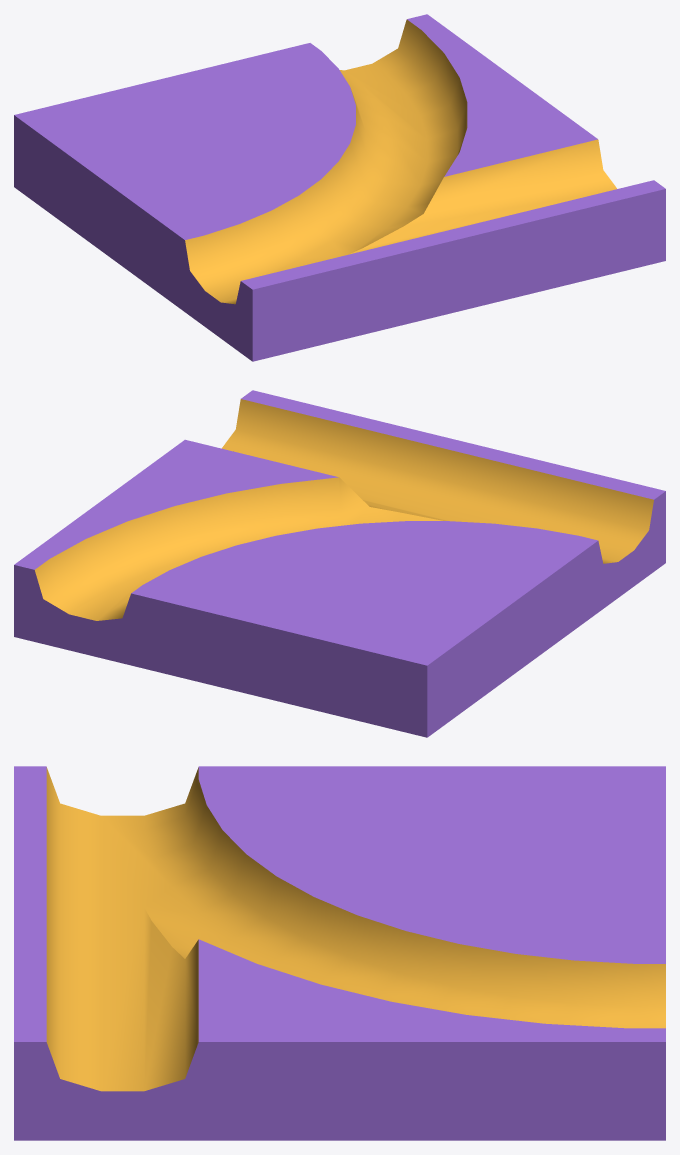
File: split-large-solid-left-col.glb
The picture shows the model from 3 angles, top to bottom: view 1: azimuth 30°, elevation 25°; view 2: azimuth 150°, elevation 25°; view 3: azimuth 270°, elevation 25°; orthographic projection. The views are drawn at different scales.
Parts seen in each view (by area): view 1: split-large-solid-left-col; view 2: split-large-solid-left-col; view 3: split-large-solid-left-col.
Part boxes in pixels (x1,y1,x2,y2): split-large-solid-left-col: (14, 14, 665, 361); split-large-solid-left-col: (14, 390, 665, 737); split-large-solid-left-col: (14, 766, 665, 1140).
Size of the model in its own units: 3 by 0.5 by 3.
Materials: 1 (1 with a texture image).
